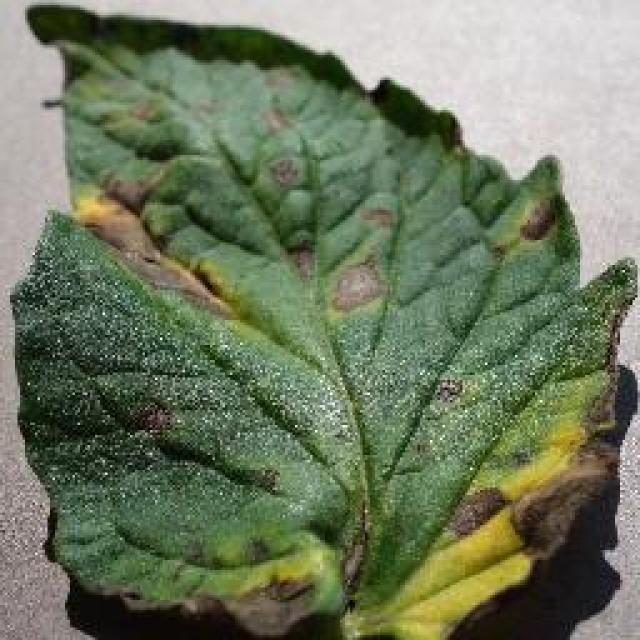leaf blight: (10, 10, 636, 639)
